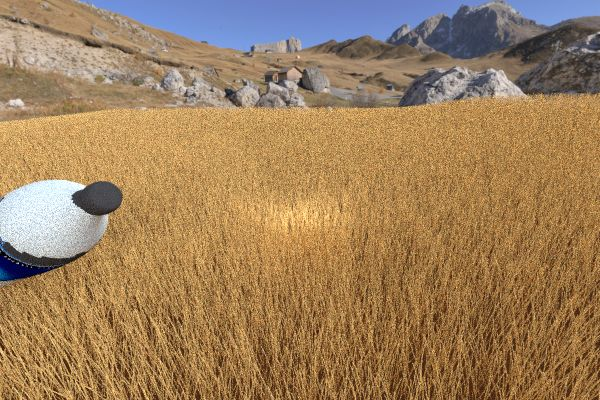bottle: (0, 177, 115, 287)
can: (402, 122, 464, 160), (219, 123, 275, 159)
